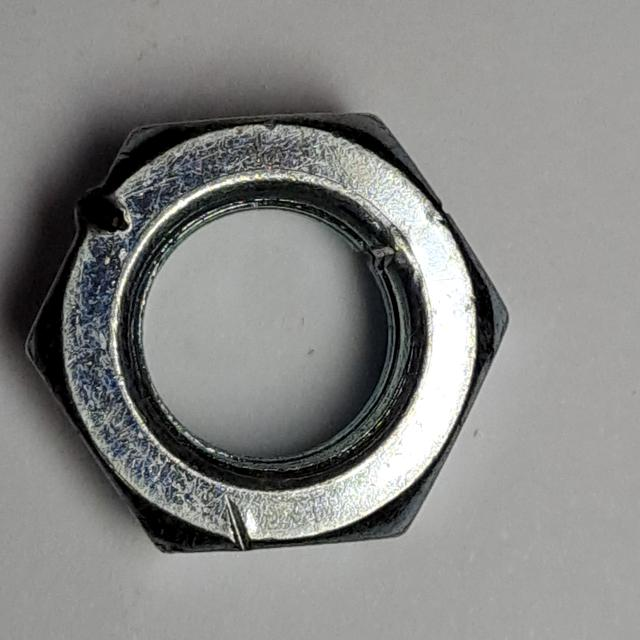Scratches: (13, 96, 521, 576)
